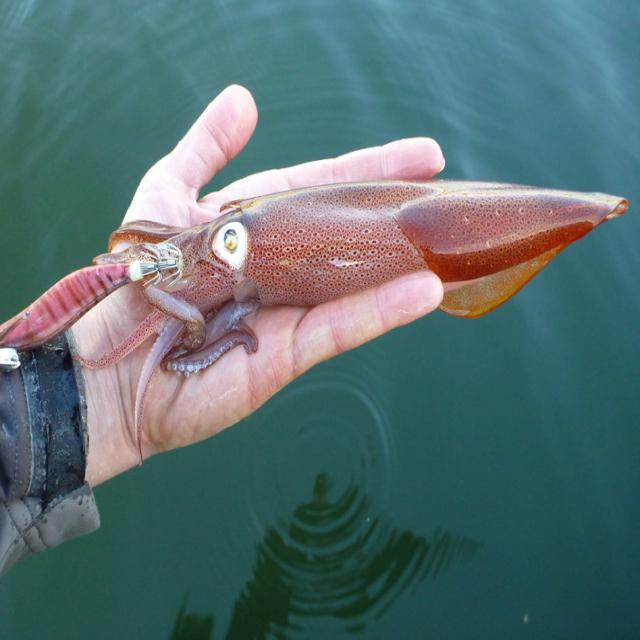SQUID: (0, 158, 640, 440)
